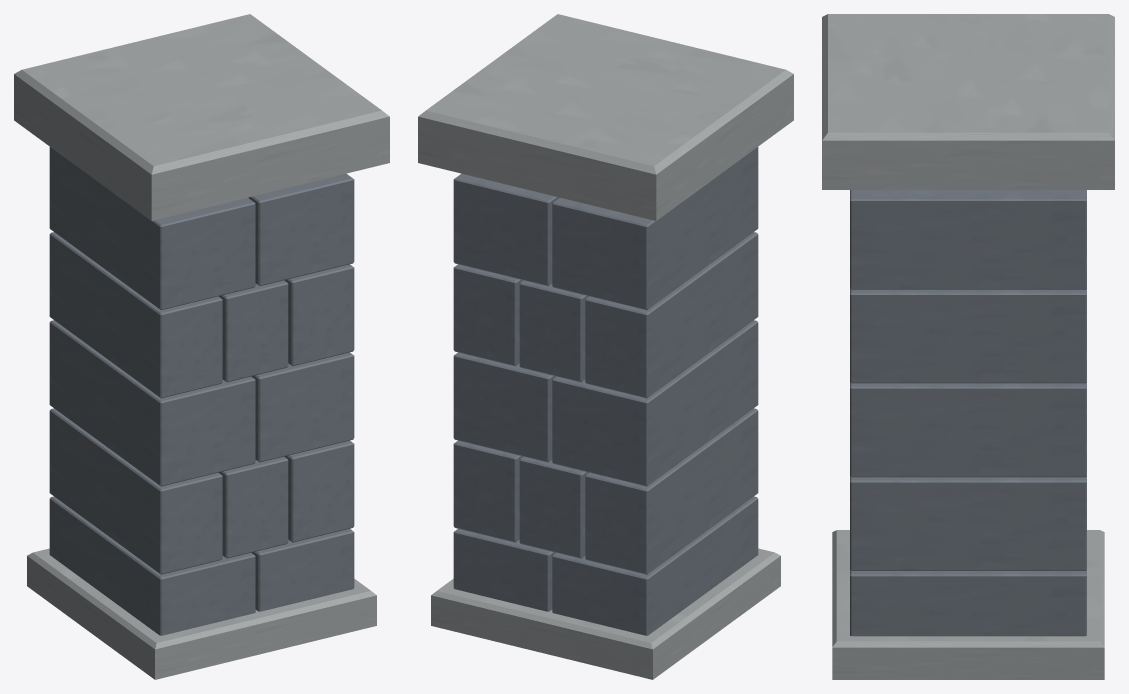
The model's file is masonry_pier.glb.
3 views of the same model, side by side, from view 1: azimuth 30°, elevation 25°; view 2: azimuth 150°, elevation 25°; view 3: azimuth 270°, elevation 25° (orthographic). The views are drawn at different scales.
Parts seen in each view (by area): view 1: outdoor_masonry_pier; view 2: outdoor_masonry_pier; view 3: outdoor_masonry_pier.
Boxes of the visible parts, <box> form: outdoor_masonry_pier: <box>14,14,389,679</box>; outdoor_masonry_pier: <box>418,14,793,679</box>; outdoor_masonry_pier: <box>822,14,1114,679</box>.
Size of the model in its own units: 0.58 by 1.2 by 0.58.
Materials: 2 (2 with a texture image).
